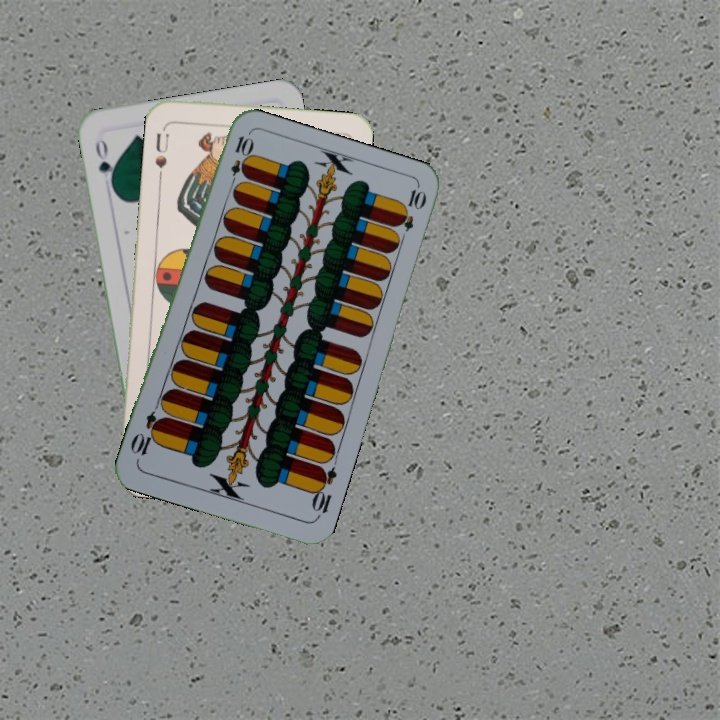E10: (307, 462, 340, 521), (226, 132, 253, 191)
GO: (91, 135, 118, 191)
SU: (151, 122, 172, 181)
